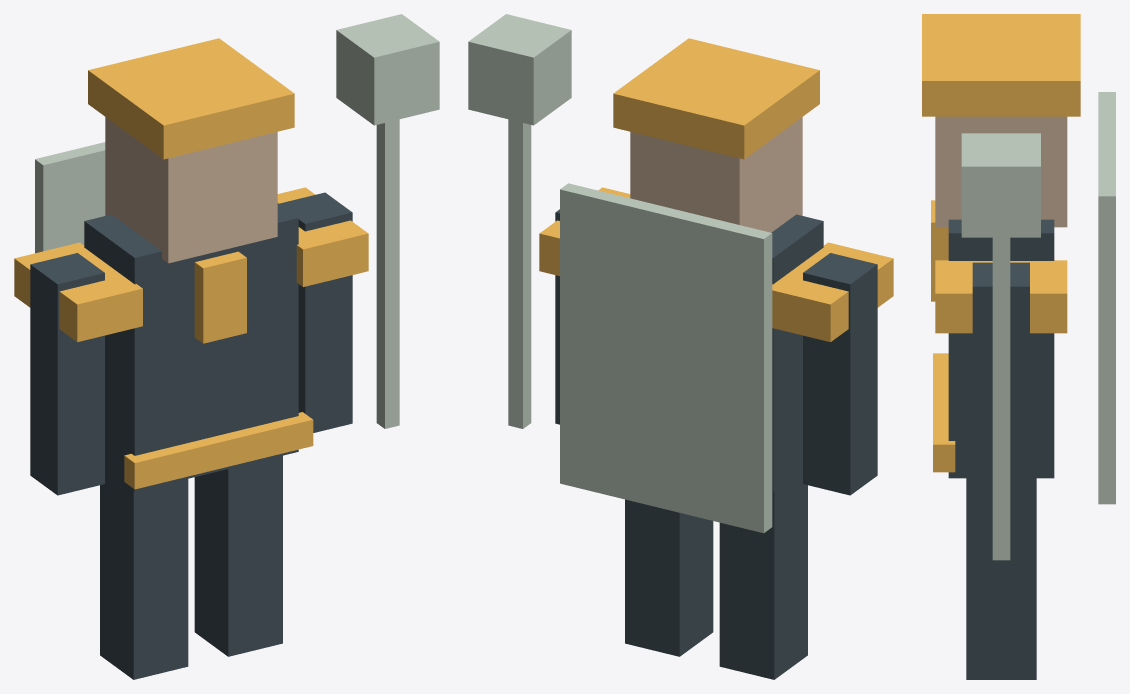
Rendered from 10_vexa_nullborne_tamer_near_containment.glb.
3 views of the same model, side by side, from view 1: azimuth 30°, elevation 25°; view 2: azimuth 150°, elevation 25°; view 3: azimuth 270°, elevation 25° (orthographic). The views are drawn at different scales.
Visible parts, largest first — view 1: Vexa Nullborne, Tamer near Containment; view 2: Vexa Nullborne, Tamer near Containment; view 3: Vexa Nullborne, Tamer near Containment.
Part boxes in pixels (left/top/right/bottom): Vexa Nullborne, Tamer near Containment: left=14, top=14, right=439, bottom=679; Vexa Nullborne, Tamer near Containment: left=468, top=14, right=893, bottom=679; Vexa Nullborne, Tamer near Containment: left=922, top=14, right=1115, bottom=679.
Size of the model in its own units: 1.09 by 1.58 by 0.4654.
